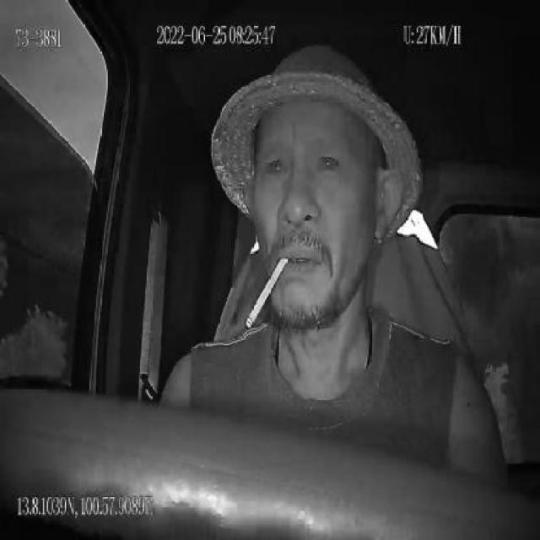smoking: (243, 253, 289, 328)
